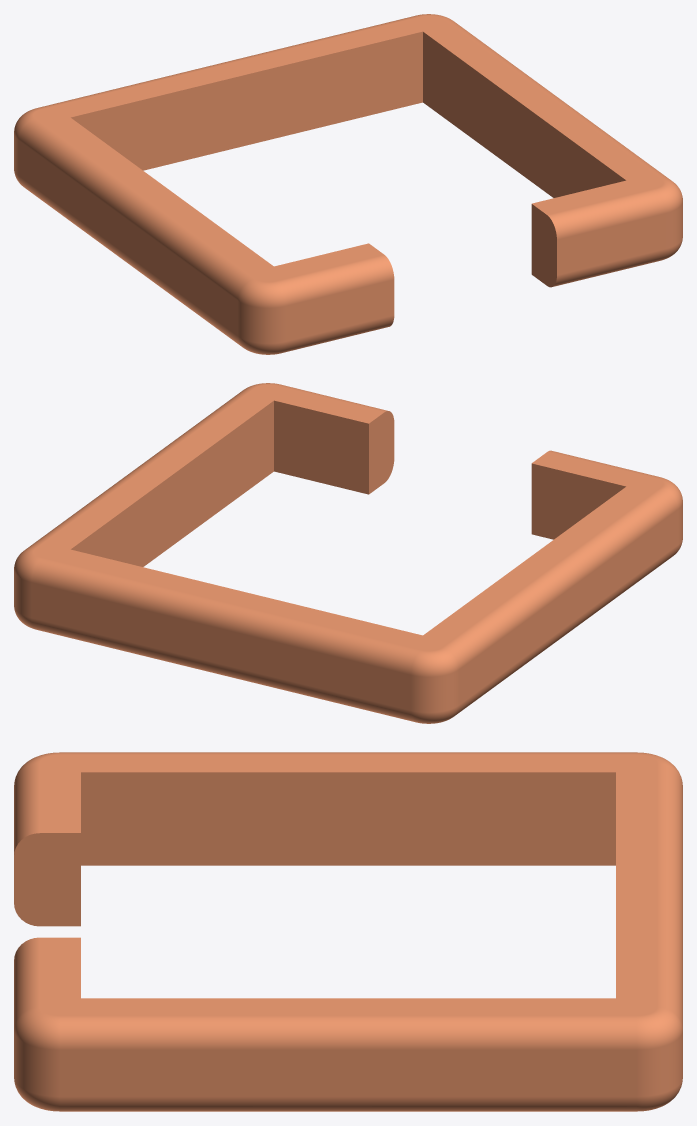
The model's file is 1323 - bumper.gltf.
The picture shows the model from 3 angles, top to bottom: view 1: azimuth 30°, elevation 25°; view 2: azimuth 150°, elevation 25°; view 3: azimuth 270°, elevation 25°; orthographic projection. The views are drawn at different scales.
Visible parts, largest first — view 1: Bumper, Part 5, Part 6, Part 3, Part 4; view 2: Bumper, Part 5, Part 6, Part 4, Part 3; view 3: Part 5, Part 6, Bumper, Part 3, Part 4.
Boxes of the visible parts, x1,y1,x2,y2 form: Bumper: (14,14,459,191); Part 5: (26,117,273,340); Part 6: (423,24,663,197); Part 3: (230,243,394,354); Part 4: (531,173,682,287); Bumper: (14,542,466,723); Part 5: (423,486,670,709); Part 6: (33,393,273,566); Part 4: (237,383,394,494); Part 3: (531,450,682,560); Part 5: (81,752,615,865); Part 6: (81,998,615,1111); Bumper: (616,752,682,1111); Part 3: (14,752,80,926); Part 4: (14,937,80,1111).
Bounding box in the file's own units: 0.8255 × 0.127 × 0.8255.
